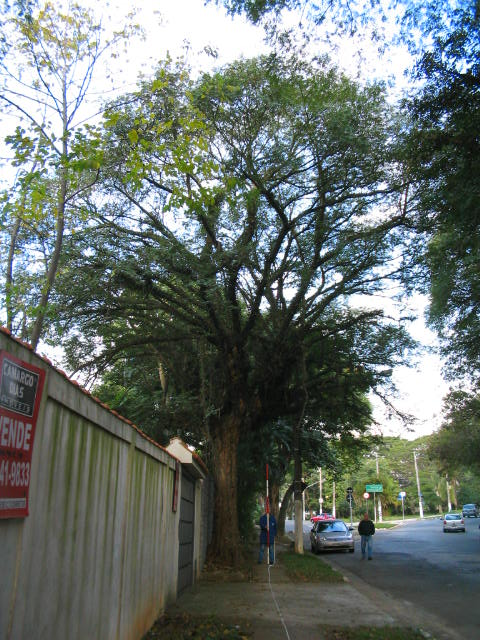stem: (202, 417, 261, 565)
stick: (260, 462, 274, 566)
tree: (48, 56, 416, 567)
